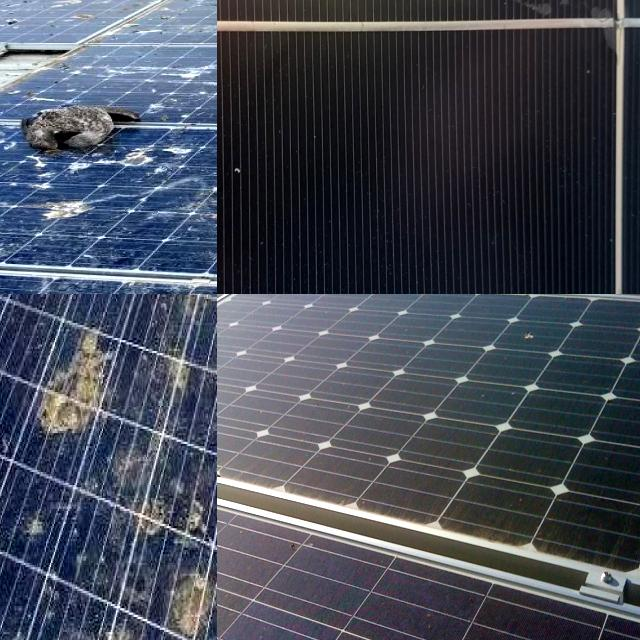bird: (35, 314, 123, 448), (79, 294, 149, 350), (172, 554, 217, 640), (160, 328, 200, 423), (49, 600, 136, 640), (113, 147, 193, 175), (32, 192, 94, 228), (130, 485, 166, 533), (173, 294, 217, 325), (15, 294, 49, 324), (0, 497, 20, 547), (0, 14, 26, 44), (0, 163, 28, 188), (0, 294, 21, 322), (0, 283, 35, 294)
shadow: (247, 0, 602, 89)
